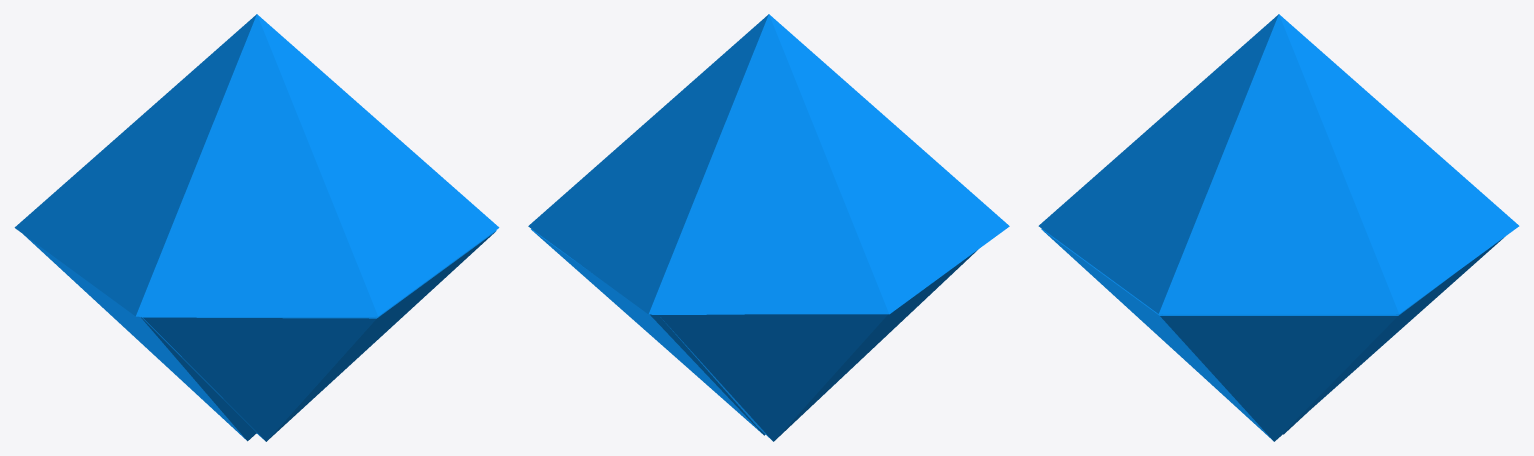
File: crystal_blue.fbx
The picture shows the model from 3 angles, left to right: view 1: azimuth 30°, elevation 25°; view 2: azimuth 150°, elevation 25°; view 3: azimuth 270°, elevation 25°; orthographic projection.
Parts seen in each view (by area): view 1: Cone; view 2: Cone; view 3: Cone.
Boxes of the visible parts, left/top/right/bottom form: Cone: left=14, top=14, right=499, bottom=441; Cone: left=528, top=14, right=1009, bottom=441; Cone: left=1038, top=14, right=1519, bottom=441.
Size of the model in its own units: 11.18 by 12.57 by 12.91.
